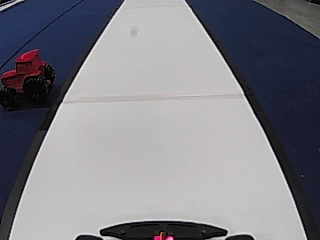tractor: (0, 48, 56, 111)
